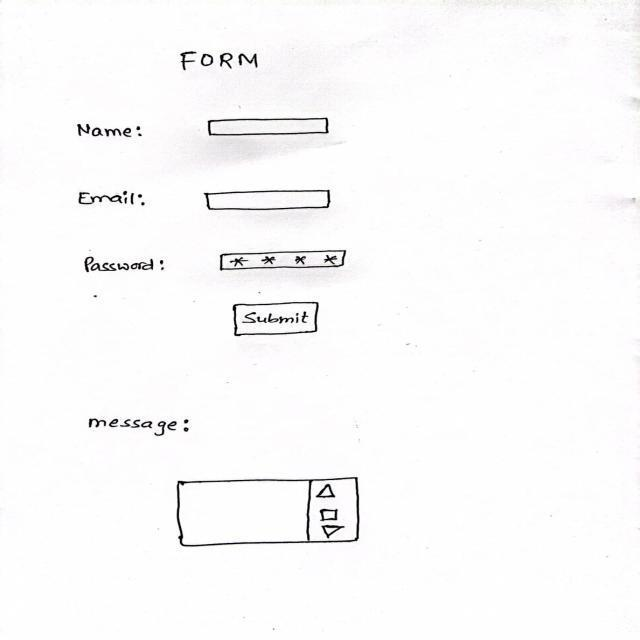textarea: (153, 468, 377, 554)
textbox: (194, 183, 353, 216), (197, 114, 341, 149)
